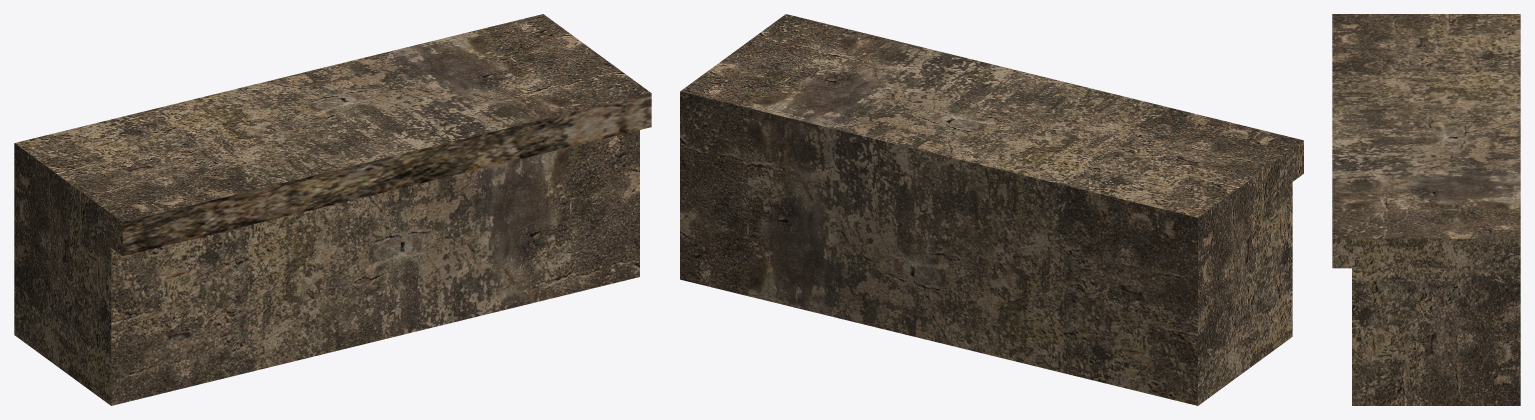
File: materials_5_stonestick_short_9.fbx
The picture shows the model from 3 angles, left to right: view 1: azimuth 30°, elevation 25°; view 2: azimuth 150°, elevation 25°; view 3: azimuth 270°, elevation 25°; orthographic projection. The views are drawn at different scales.
Visible parts, largest first — view 1: materials_5_stonestick_short_9; view 2: materials_5_stonestick_short_9; view 3: materials_5_stonestick_short_9.
Boxes of the visible parts, x1,y1,x2,y2 form: materials_5_stonestick_short_9: (14, 14, 651, 405); materials_5_stonestick_short_9: (680, 14, 1303, 405); materials_5_stonestick_short_9: (1332, 14, 1520, 405).
Size of the model in its own units: 123 by 42.62 by 43.48.
